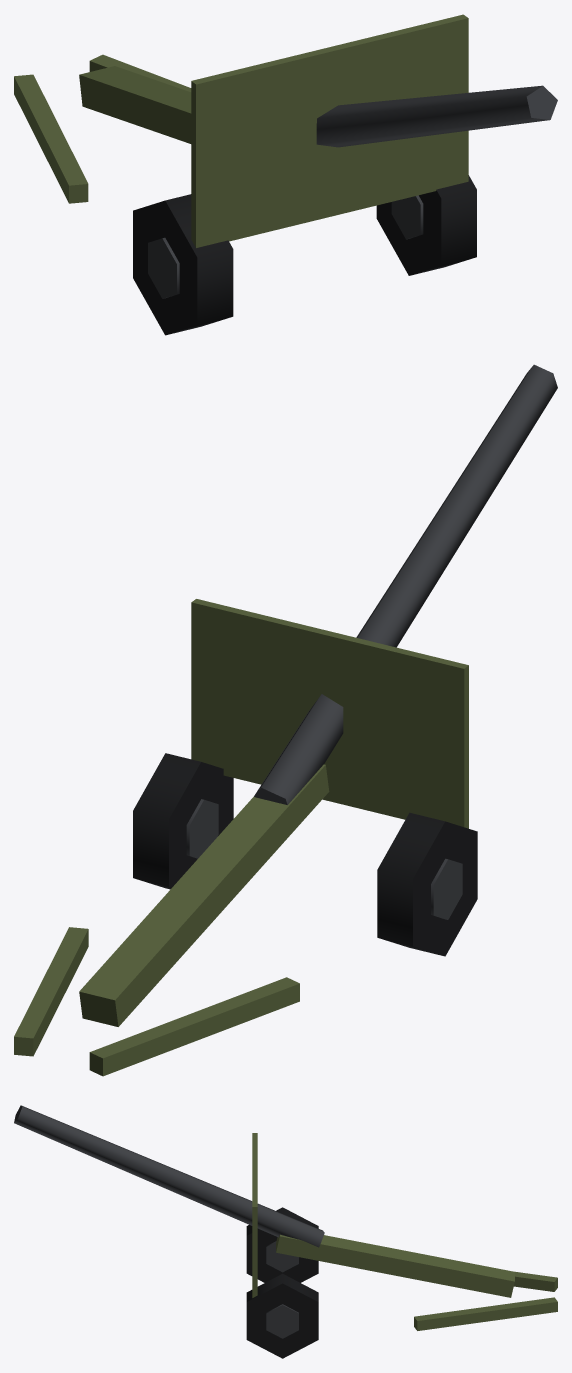
File: unit_mil_gun_a06_lod1.glb
3 renders of one model, top to bottom at view 1: azimuth 30°, elevation 25°; view 2: azimuth 150°, elevation 25°; view 3: azimuth 270°, elevation 25°, orthographic. The views are drawn at different scales.
Visible parts, largest first — view 1: body, wheel_0, barrel, wheel_1; view 2: body, barrel, wheel_0, wheel_1; view 3: body, barrel, wheel_1, wheel_0.
Part boxes in pixels (x1,y1,x2,y2): body: (14,14,468,247); wheel_0: (133,194,233,335); barrel: (316,85,557,147); wheel_1: (376,175,476,275); body: (14,599,468,1076); barrel: (254,364,557,804); wheel_0: (377,812,477,956); wheel_1: (133,753,233,889); body: (252,1133,557,1330); barrel: (14,1105,324,1247); wheel_1: (246,1273,318,1358); wheel_0: (246,1207,318,1282).
Bounding box in the file's own units: 1.99 × 2.57 × 5.89.
